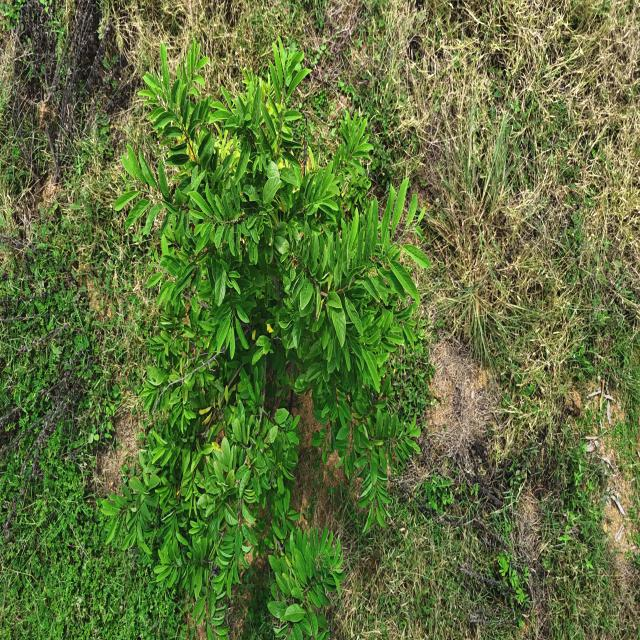notMangoTree: (111, 31, 436, 640)
